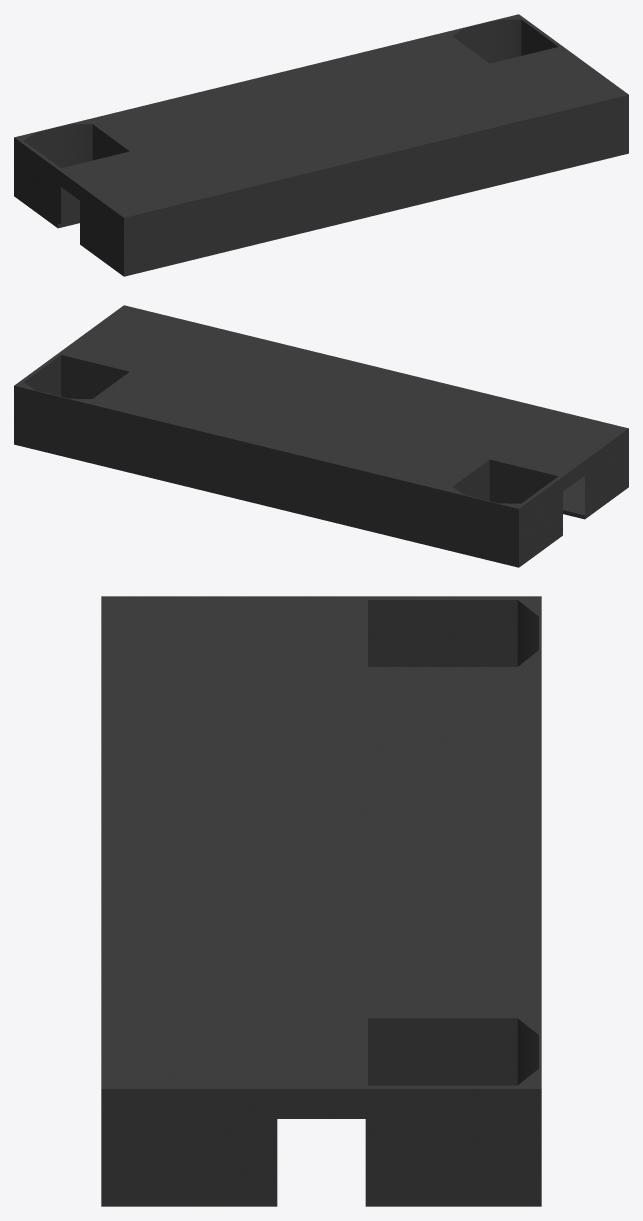
The model's file is Trenas_Walls.fbx.
The picture shows the model from 3 angles, top to bottom: view 1: azimuth 30°, elevation 25°; view 2: azimuth 150°, elevation 25°; view 3: azimuth 270°, elevation 25°; orthographic projection. The views are drawn at different scales.
Parts seen in each view (by area): view 1: Trenas_Walls; view 2: Trenas_Walls; view 3: Trenas_Walls.
Boxes of the visible parts, x1,y1,x2,y2 form: Trenas_Walls: [14, 14, 628, 276]; Trenas_Walls: [14, 305, 628, 567]; Trenas_Walls: [101, 596, 541, 1206].
Size of the model in its own units: 10600 by 1180 by 4000.
